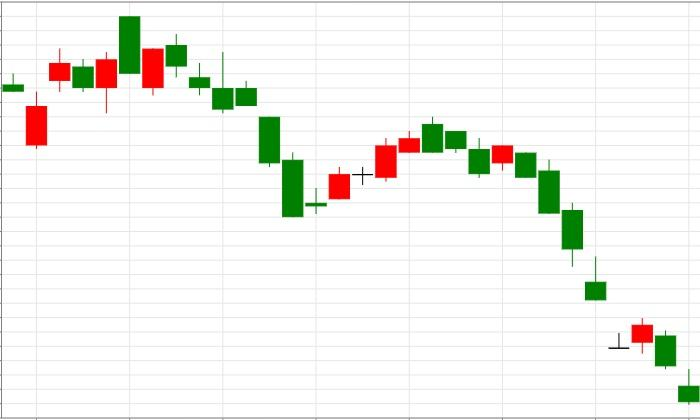bearish_engulfing_fall: (306, 116, 443, 214)
